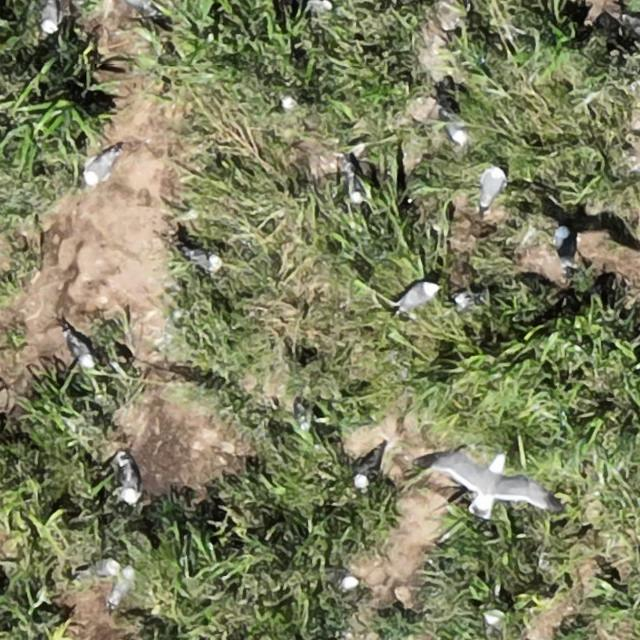F: (432, 450, 552, 516)
umineko: (115, 449, 139, 503), (356, 447, 382, 487), (441, 108, 470, 143), (479, 166, 503, 205), (84, 152, 115, 182), (398, 283, 436, 307), (78, 558, 120, 578), (70, 335, 94, 367), (111, 572, 133, 605), (185, 250, 219, 270), (41, 2, 60, 34), (121, 0, 152, 11), (337, 574, 358, 590)
